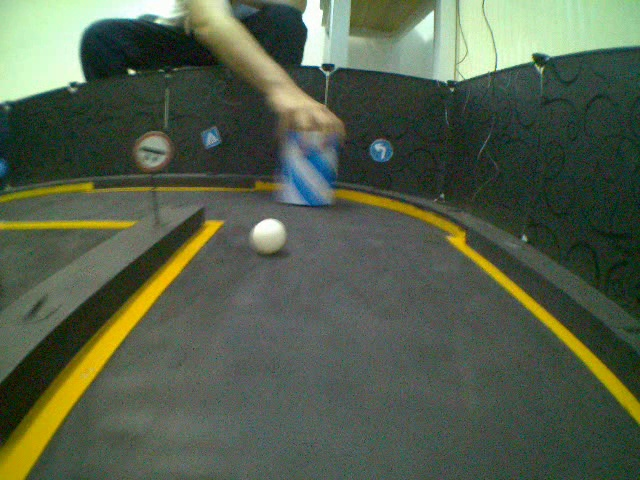ball: (250, 215, 285, 257)
bucket: (278, 124, 339, 207)
